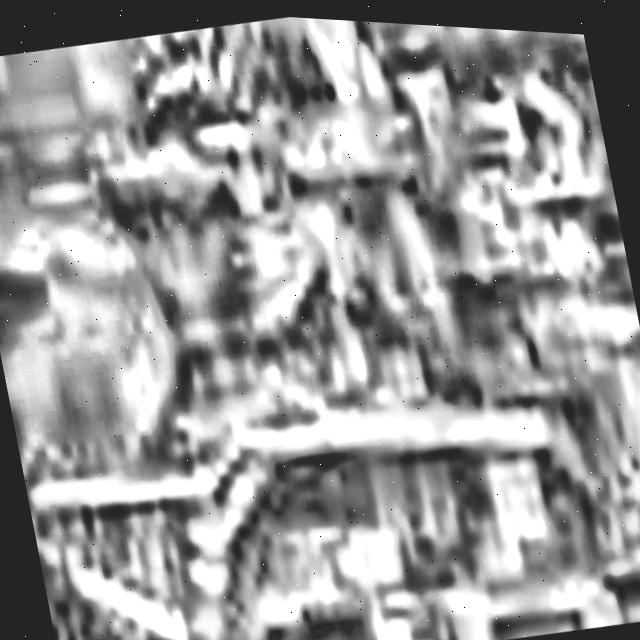dump_truck: (11, 303, 631, 640)
